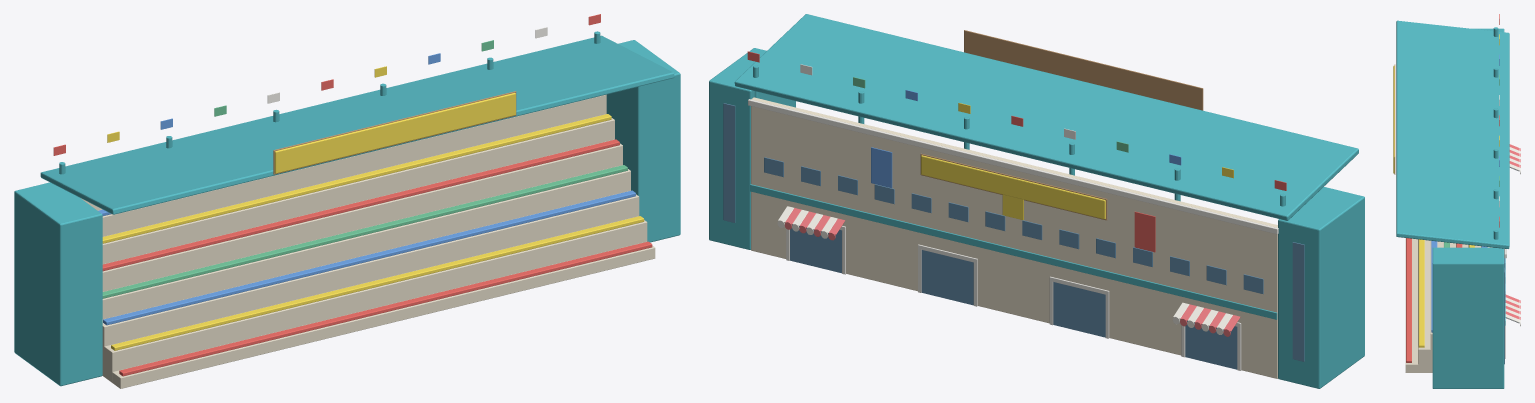
File: grandstand.fbx
3 views of the same model, side by side, from view 1: azimuth 30°, elevation 25°; view 2: azimuth 150°, elevation 25°; view 3: azimuth 270°, elevation 25° (orthographic). The views are drawn at different scales.
Parts seen in each view (by area): view 1: Visual; view 2: Visual; view 3: Visual.
Part boxes in pixels (left/top/right/bottom): Visual: left=14, top=14, right=680, bottom=388; Visual: left=709, top=14, right=1364, bottom=388; Visual: left=1393, top=14, right=1520, bottom=388.
Size of what is drawn, in the model's own units: 4640 by 1488 by 1060.
